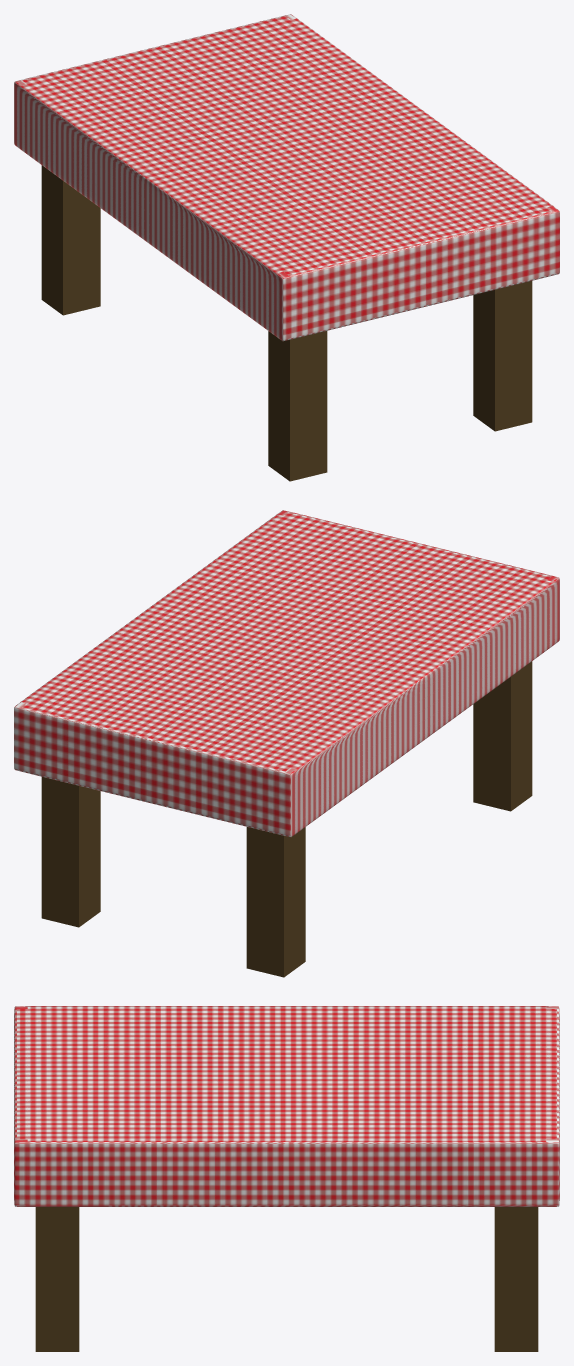
The model's file is mantelmesa 1.fbx.
3 renders of one model, top to bottom at view 1: azimuth 30°, elevation 25°; view 2: azimuth 150°, elevation 25°; view 3: azimuth 270°, elevation 25°, orthographic.
Visible parts, largest first — view 1: Plane, Plane.001; view 2: Plane, Plane.001; view 3: Plane, Plane.001.
Part boxes in pixels (x1,y1,x2,y2): Plane: (14,14,559,341); Plane.001: (41,165,532,481); Plane: (14,510,559,837); Plane.001: (41,661,532,977); Plane: (14,1006,559,1206); Plane.001: (35,1207,538,1351).
Bounding box in the file's own units: 1142 × 845 × 1917.
